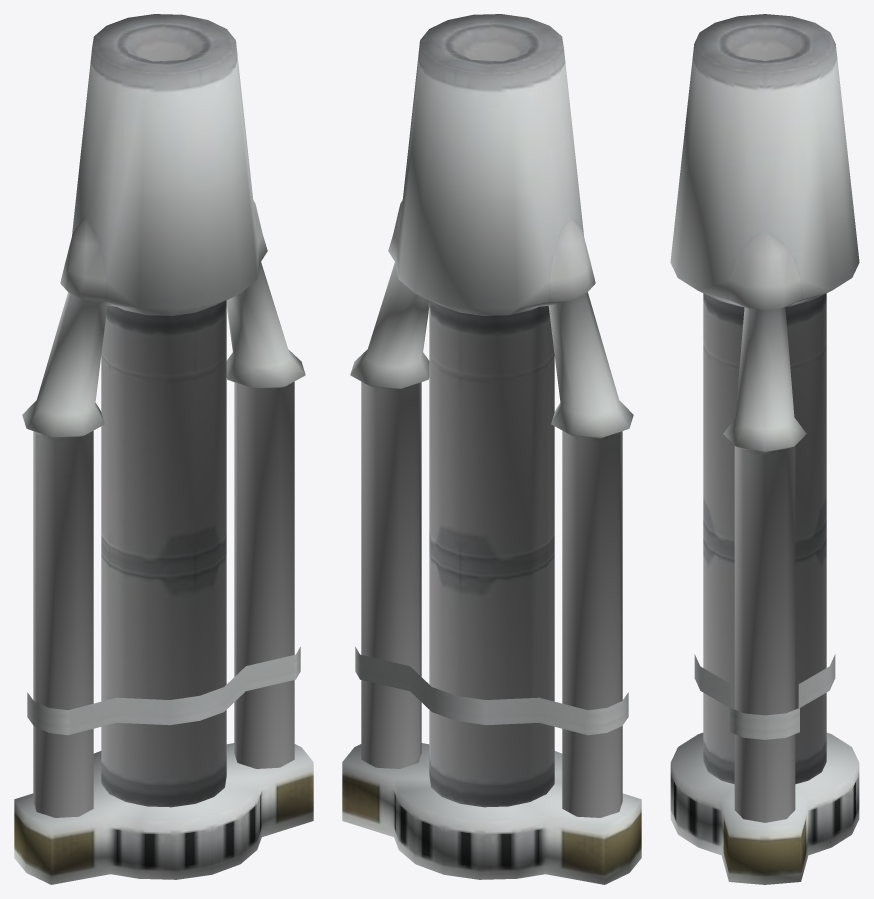
The model's file is Part - Tube 03-9nhZ9mem.glb.
3 renders of one model, left to right at view 1: azimuth 30°, elevation 25°; view 2: azimuth 150°, elevation 25°; view 3: azimuth 270°, elevation 25°, orthographic. The views are drawn at different scales.
Parts seen in each view (by area): view 1: Tube_03, Tube_03_pad, Tube_03_clamp; view 2: Tube_03, Tube_03_pad, Tube_03_clamp; view 3: Tube_03, Tube_03_pad, Tube_03_clamp.
Part boxes in pixels (x1=…): Tube_03: x1=22, y1=14, x2=305, y2=817; Tube_03_pad: x1=14, y1=743, x2=313, y2=884; Tube_03_clamp: x1=27, y1=647, x2=300, y2=735; Tube_03: x1=350, y1=14, x2=633, y2=817; Tube_03_pad: x1=342, y1=743, x2=641, y2=884; Tube_03_clamp: x1=355, y1=647, x2=628, y2=735; Tube_03: x1=670, y1=14, x2=859, y2=822; Tube_03_pad: x1=670, y1=732, x2=859, y2=884; Tube_03_clamp: x1=694, y1=654, x2=835, y2=739.
Size of the model in its own units: 1.35 by 3.73 by 0.8247.
1 material, 1 textured.
